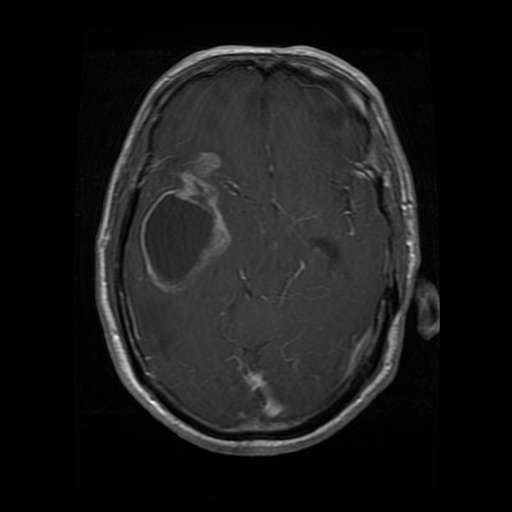glioma: (139, 150, 230, 292)
